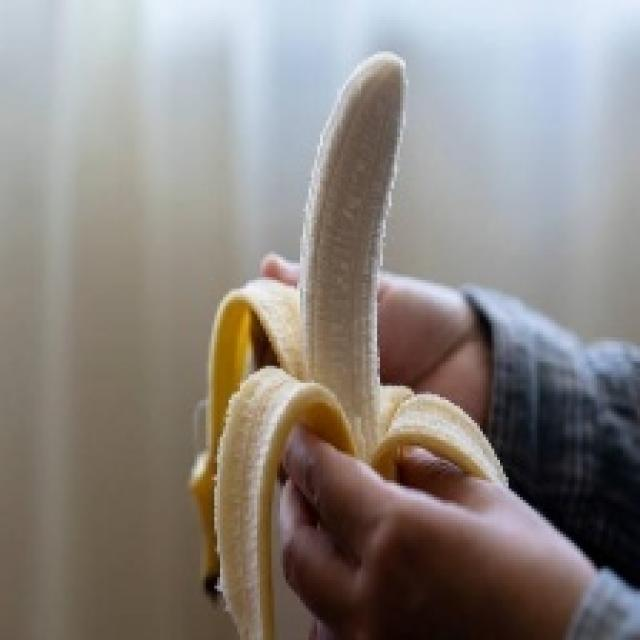Banana: (186, 49, 508, 637)
